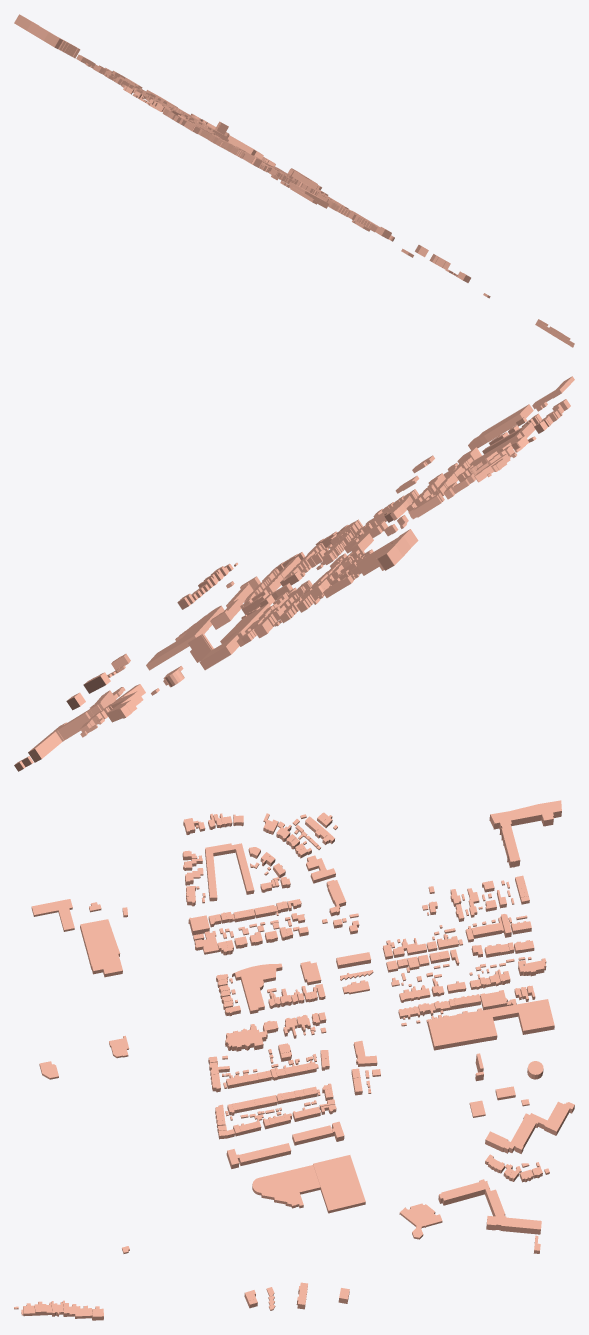
3 renders of one model, top to bottom at view 1: azimuth 30°, elevation 25°; view 2: azimuth 150°, elevation 25°; view 3: azimuth 270°, elevation 25°, orthographic. The views are drawn at different scales.
Size of the model in its own units: 534 by 383 by 611.
